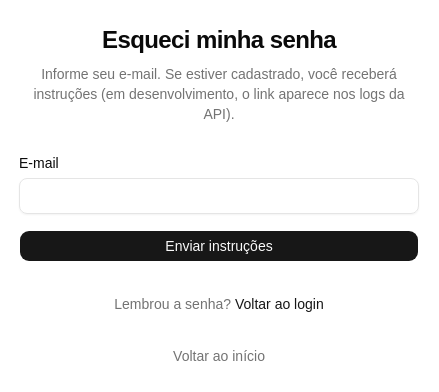
ForgotPasswordPage › validates empty email
Step 1. Click the button "Enviar instruções" → (219, 246), box [19,230,419,262]
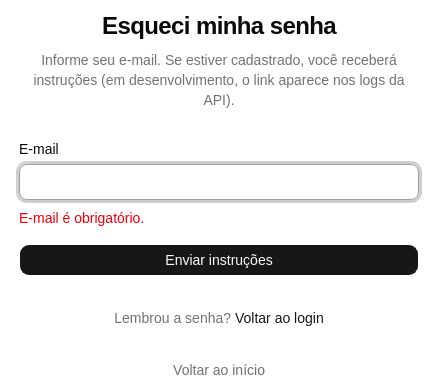
Now the text "E-mail é obrigatório." is shown, box [19,210,144,226]
